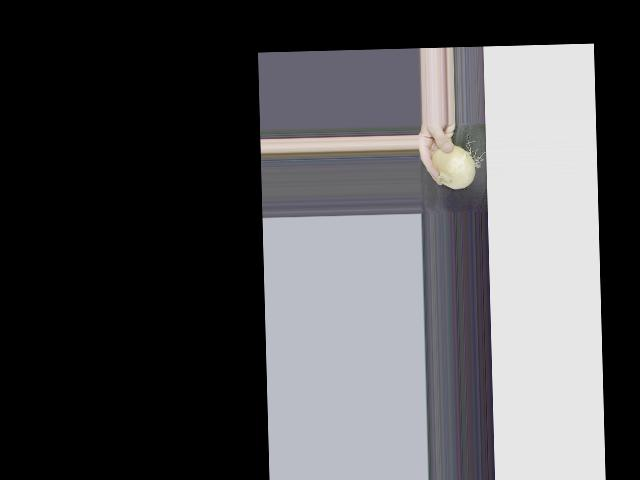onion: (431, 145, 476, 188)
